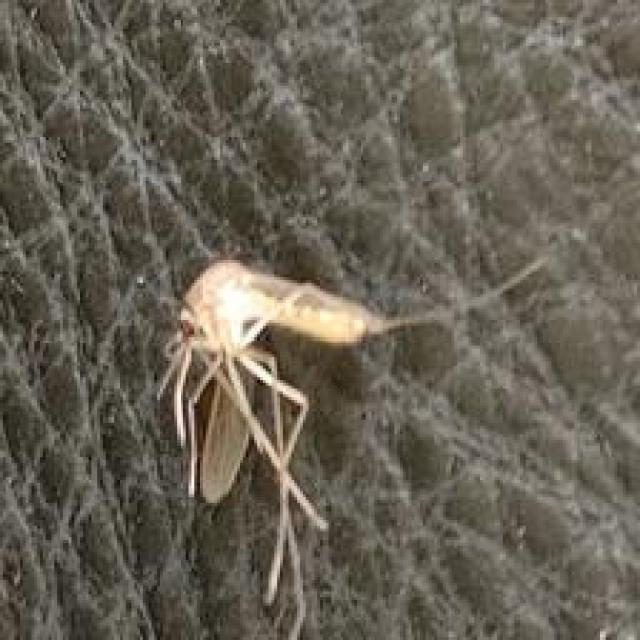Culex: (153, 256, 447, 638)
